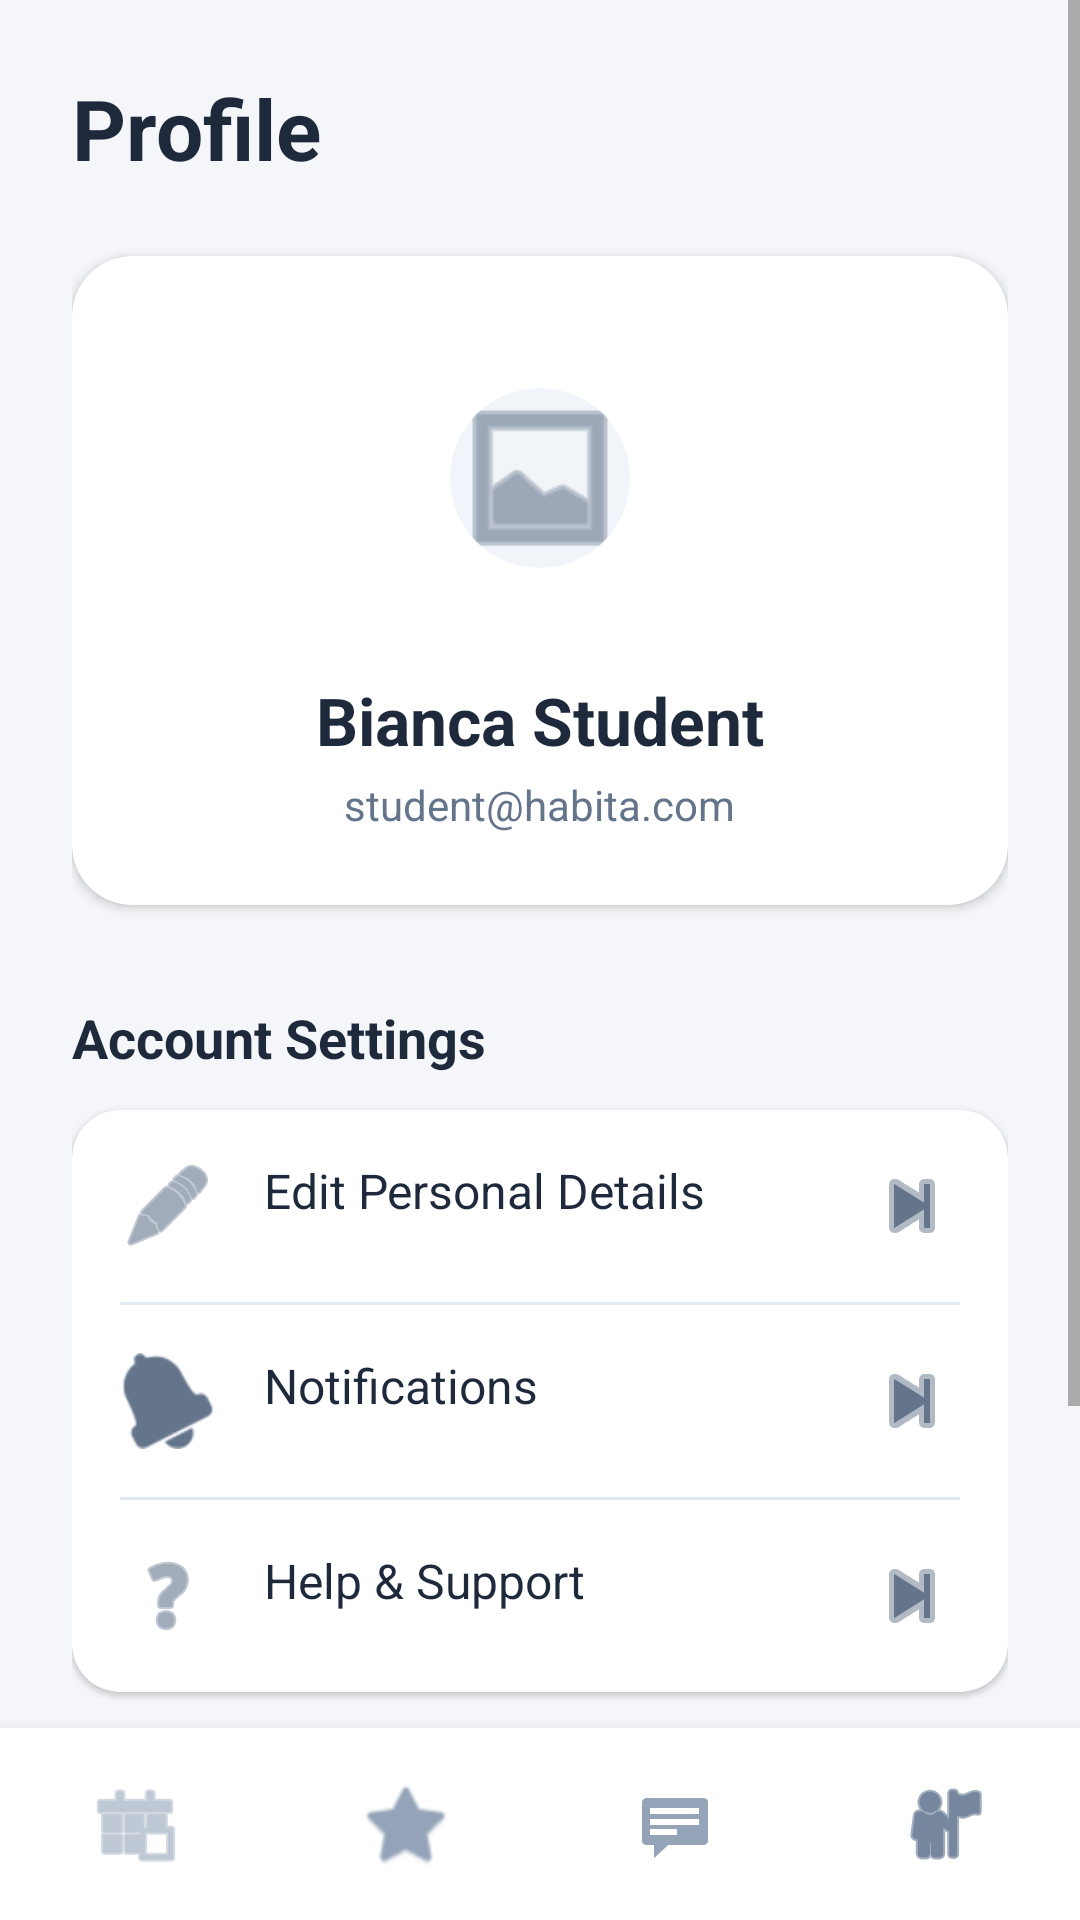

Screen size 1080px×1920px. Icon name, then its center in pixels as (x,y):
Chat: (675,1828)
Profile: (946,1824)
Saved: (406,1825)
